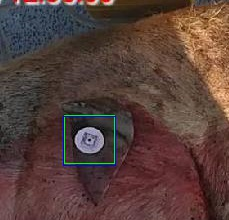text: (64, 115, 114, 163)
